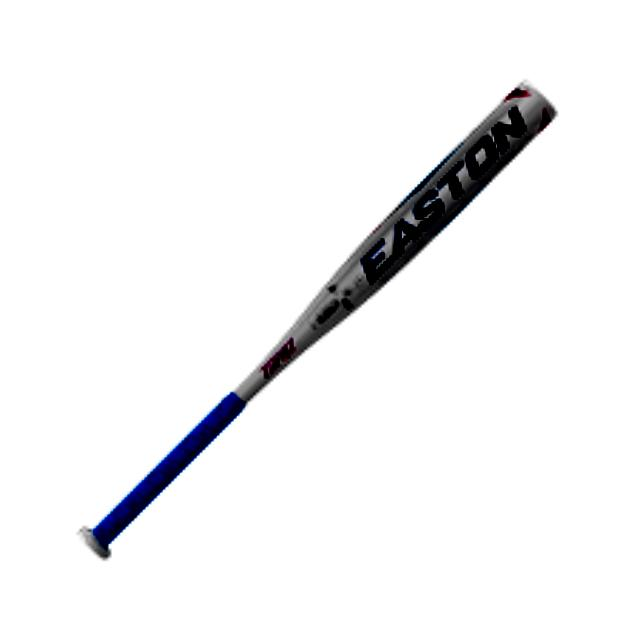baseball bat: (77, 77, 557, 557)
